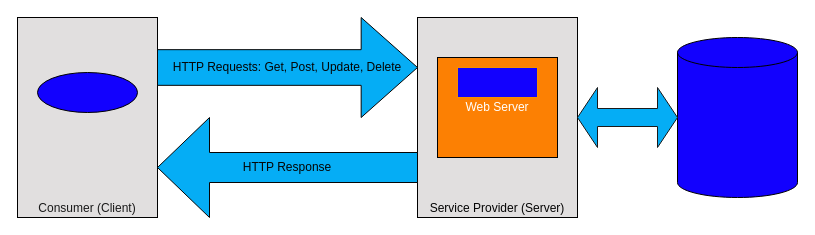
Some shapes in this 815 by 235 pixel diagram are drawn without their labels. The shapes that lost their labels are listed below. From the top down, each one's centre as x and y in pixels, then its label:
At point (87, 92): "Web App".
At point (497, 82): "REST APIs".
At point (737, 117): "Database".
